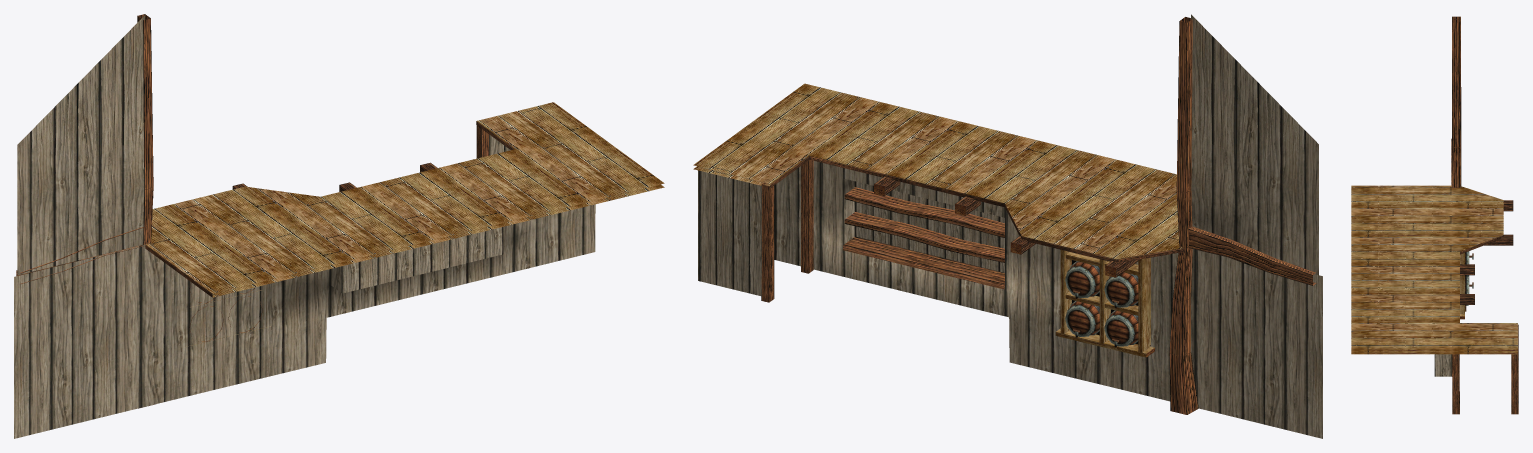
Rendered from LAKETOWN_PUB_PS_PUB_BACKBAR857__GX.fbx.
The picture shows the model from 3 angles, left to right: view 1: azimuth 30°, elevation 25°; view 2: azimuth 150°, elevation 25°; view 3: azimuth 270°, elevation 25°; orthographic projection. The views are drawn at different scales.
Visible parts, largest first — view 1: LAKETOWN_PUB_PS_PUB_BACKBAR857__GX; view 2: LAKETOWN_PUB_PS_PUB_BACKBAR857__GX; view 3: LAKETOWN_PUB_PS_PUB_BACKBAR857__GX.
Part boxes in pixels (x1,y1,x2,y2): LAKETOWN_PUB_PS_PUB_BACKBAR857__GX: [14, 14, 664, 438]; LAKETOWN_PUB_PS_PUB_BACKBAR857__GX: [693, 14, 1322, 438]; LAKETOWN_PUB_PS_PUB_BACKBAR857__GX: [1351, 16, 1518, 414].
Size of the model in its own units: 110540 by 70889 by 36689.
Materials: 11 (11 with a texture image).
